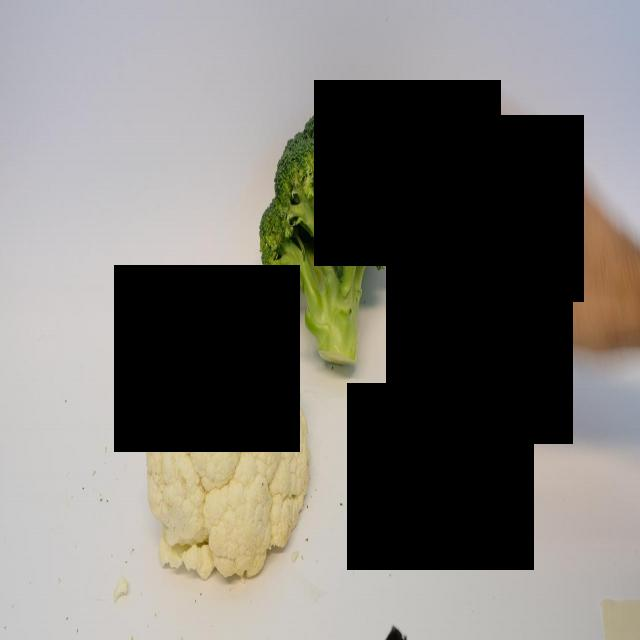apple: (412, 300, 506, 465)
broccoli: (258, 101, 414, 366)
cauliflower: (145, 323, 311, 580)
